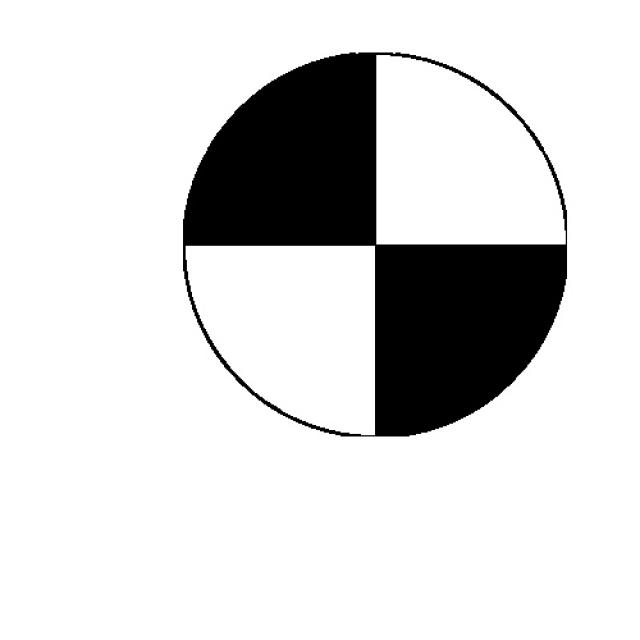Marcadores: (184, 53, 567, 438)
